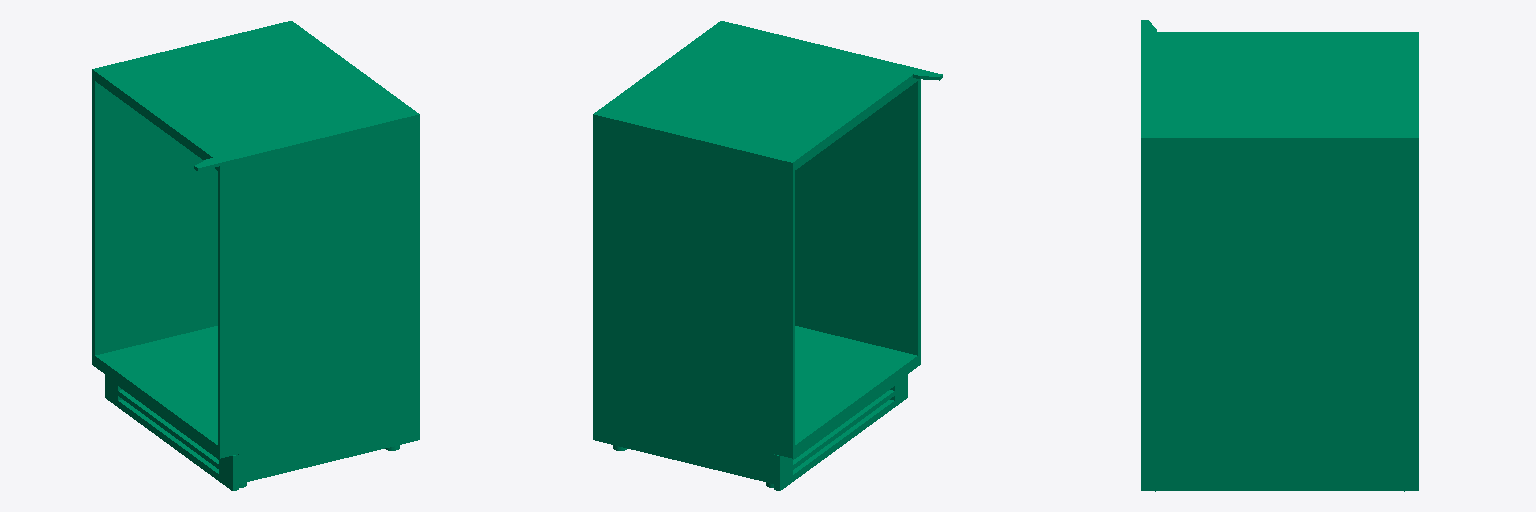
URDF robot description (partnet_7028b24b7d64efaf3194539af1047dcf):
<?xml version="1.0" ?>
<robot name="partnet_7028b24b7d64efaf3194539af1047dcf">
	<link name="base"/>
	<link name="link_0">
		<visual name="door_frame-10">
			<origin xyz="-0.511112457240624 -0.7355 -0.49444429491836783"/>
			<geometry>
				<mesh filename="textured_objs/original-5.obj"/>
			</geometry>
		</visual>
		<visual name="door_frame-10">
			<origin xyz="-0.511112457240624 -0.7355 -0.49444429491836783"/>
			<geometry>
				<mesh filename="textured_objs/original-13.obj"/>
			</geometry>
		</visual>
		<visual name="door_frame-10">
			<origin xyz="-0.511112457240624 -0.7355 -0.49444429491836783"/>
			<geometry>
				<mesh filename="textured_objs/original-4.obj"/>
			</geometry>
		</visual>
		<visual name="door_frame-10">
			<origin xyz="-0.511112457240624 -0.7355 -0.49444429491836783"/>
			<geometry>
				<mesh filename="textured_objs/original-3.obj"/>
			</geometry>
		</visual>
		<visual name="door_frame-10">
			<origin xyz="-0.511112457240624 -0.7355 -0.49444429491836783"/>
			<geometry>
				<mesh filename="textured_objs/original-11.obj"/>
			</geometry>
		</visual>
		<visual name="door_frame-10">
			<origin xyz="-0.511112457240624 -0.7355 -0.49444429491836783"/>
			<geometry>
				<mesh filename="textured_objs/original-12.obj"/>
			</geometry>
		</visual>
		<visual name="handle-11">
			<origin xyz="-0.511112457240624 -0.7355 -0.49444429491836783"/>
			<geometry>
				<mesh filename="textured_objs/original-15.obj"/>
			</geometry>
		</visual>
		<visual name="handle-11">
			<origin xyz="-0.511112457240624 -0.7355 -0.49444429491836783"/>
			<geometry>
				<mesh filename="textured_objs/original-16.obj"/>
			</geometry>
		</visual>
		<visual name="handle-11">
			<origin xyz="-0.511112457240624 -0.7355 -0.49444429491836783"/>
			<geometry>
				<mesh filename="textured_objs/original-14.obj"/>
			</geometry>
		</visual>
		<collision>
			<origin xyz="-0.511112457240624 -0.7355 -0.49444429491836783"/>
			<geometry>
				<mesh filename="textured_objs/original-5.obj"/>
			</geometry>
		</collision>
		<collision>
			<origin xyz="-0.511112457240624 -0.7355 -0.49444429491836783"/>
			<geometry>
				<mesh filename="textured_objs/original-13.obj"/>
			</geometry>
		</collision>
		<collision>
			<origin xyz="-0.511112457240624 -0.7355 -0.49444429491836783"/>
			<geometry>
				<mesh filename="textured_objs/original-4.obj"/>
			</geometry>
		</collision>
		<collision>
			<origin xyz="-0.511112457240624 -0.7355 -0.49444429491836783"/>
			<geometry>
				<mesh filename="textured_objs/original-3.obj"/>
			</geometry>
		</collision>
		<collision>
			<origin xyz="-0.511112457240624 -0.7355 -0.49444429491836783"/>
			<geometry>
				<mesh filename="textured_objs/original-11.obj"/>
			</geometry>
		</collision>
		<collision>
			<origin xyz="-0.511112457240624 -0.7355 -0.49444429491836783"/>
			<geometry>
				<mesh filename="textured_objs/original-12.obj"/>
			</geometry>
		</collision>
		<collision>
			<origin xyz="-0.511112457240624 -0.7355 -0.49444429491836783"/>
			<geometry>
				<mesh filename="textured_objs/original-15.obj"/>
			</geometry>
		</collision>
		<collision>
			<origin xyz="-0.511112457240624 -0.7355 -0.49444429491836783"/>
			<geometry>
				<mesh filename="textured_objs/original-16.obj"/>
			</geometry>
		</collision>
		<collision>
			<origin xyz="-0.511112457240624 -0.7355 -0.49444429491836783"/>
			<geometry>
				<mesh filename="textured_objs/original-14.obj"/>
			</geometry>
		</collision>
	</link>
	<joint name="joint_0" type="revolute">
		<origin xyz="0.511112457240624 0.7355 0.49444429491836783"/>
		<axis xyz="0 1 0"/>
		<child link="link_0"/>
		<parent link="link_1"/>
		<limit lower="-0.0" upper="3.141592653589793"/>
	</joint>
	<link name="link_1">
		<visual name="frame-8">
			<origin xyz="0 0 0"/>
			<geometry>
				<mesh filename="textured_objs/new-1.obj"/>
			</geometry>
		</visual>
		<visual name="frame-8">
			<origin xyz="0 0 0"/>
			<geometry>
				<mesh filename="textured_objs/new-0.obj"/>
			</geometry>
		</visual>
		<visual name="foot-12">
			<origin xyz="0 0 0"/>
			<geometry>
				<mesh filename="textured_objs/original-19.obj"/>
			</geometry>
		</visual>
		<visual name="foot-13">
			<origin xyz="0 0 0"/>
			<geometry>
				<mesh filename="textured_objs/original-20.obj"/>
			</geometry>
		</visual>
		<visual name="foot-14">
			<origin xyz="0 0 0"/>
			<geometry>
				<mesh filename="textured_objs/original-18.obj"/>
			</geometry>
		</visual>
		<visual name="foot-15">
			<origin xyz="0 0 0"/>
			<geometry>
				<mesh filename="textured_objs/original-17.obj"/>
			</geometry>
		</visual>
		<collision>
			<origin xyz="0 0 0"/>
			<geometry>
				<mesh filename="textured_objs/new-1.obj"/>
			</geometry>
		</collision>
		<collision>
			<origin xyz="0 0 0"/>
			<geometry>
				<mesh filename="textured_objs/new-0.obj"/>
			</geometry>
		</collision>
		<collision>
			<origin xyz="0 0 0"/>
			<geometry>
				<mesh filename="textured_objs/original-19.obj"/>
			</geometry>
		</collision>
		<collision>
			<origin xyz="0 0 0"/>
			<geometry>
				<mesh filename="textured_objs/original-20.obj"/>
			</geometry>
		</collision>
		<collision>
			<origin xyz="0 0 0"/>
			<geometry>
				<mesh filename="textured_objs/original-18.obj"/>
			</geometry>
		</collision>
		<collision>
			<origin xyz="0 0 0"/>
			<geometry>
				<mesh filename="textured_objs/original-17.obj"/>
			</geometry>
		</collision>
	</link>
	<joint name="joint_1" type="fixed">
		<origin rpy="1.570796326794897 0 -1.570796326794897" xyz="0 0 0"/>
		<child link="link_1"/>
		<parent link="base"/>
	</joint>
</robot>

--- Facts derived from the render (not from the file) ---
Views: 3 orthographic renders of the robot side by side, from view 1: azimuth 30°, elevation 25°; view 2: azimuth 150°, elevation 25°; view 3: azimuth 270°, elevation 25°.
Robot: partnet_7028b24b7d64efaf3194539af1047dcf — 3 links, 2 joints (1 revolute, 1 fixed); root link base; default pose: all joints at 0.
Links seen in each view (by area): view 1: link_1; view 2: link_1; view 3: link_1.
Link boxes in pixels (x1,y1,x2,y2): link_1: [92, 21, 419, 490]; link_1: [593, 21, 942, 490]; link_1: [1141, 20, 1418, 491].
Size in the robot's own frame: 1.06 by 1.06 by 1.53 metres.
6 mesh visuals loaded from 15 distinct referenced files (6 OBJ); not drawn: 9 (reference not matched to a file when rendering).